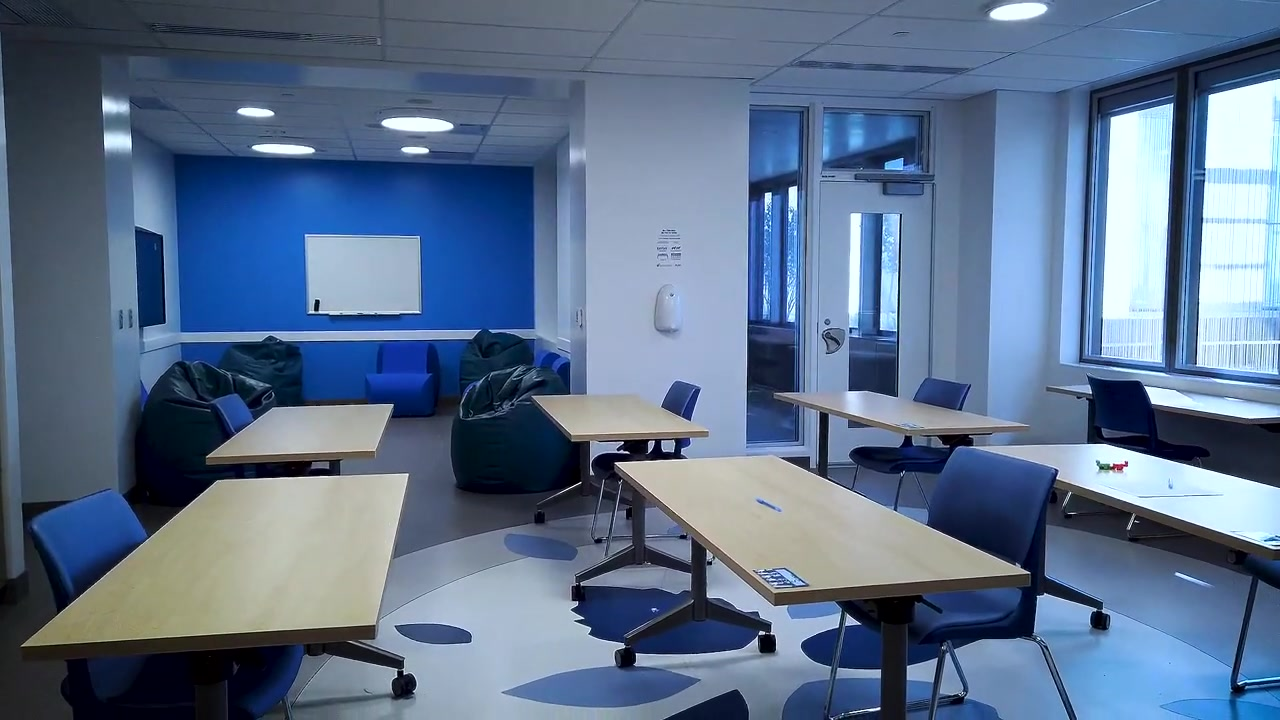chair: (800, 444, 1078, 720), (25, 488, 306, 720), (571, 378, 701, 605), (848, 378, 974, 511), (1086, 373, 1210, 469), (206, 392, 314, 480), (1229, 553, 1280, 696)
dispenser: (653, 283, 682, 333)
door_handle: (822, 327, 846, 355)
light_switch: (117, 310, 124, 330), (128, 308, 134, 328)
sofa: (135, 359, 279, 512), (448, 366, 580, 493), (216, 335, 306, 407), (364, 342, 440, 415), (459, 330, 534, 400)
table: (613, 454, 1031, 720), (23, 469, 417, 720), (971, 443, 1280, 640), (531, 393, 710, 526), (773, 391, 1030, 477), (203, 404, 397, 478), (1045, 385, 1280, 446)
